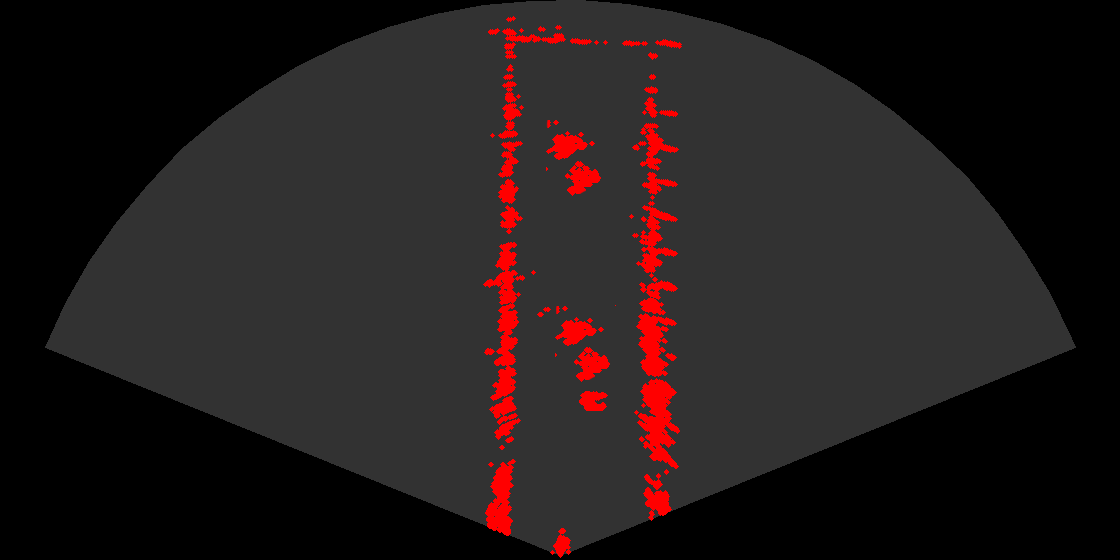ball: (559, 373, 619, 414)
cage: (546, 120, 609, 204), (555, 306, 618, 390)
